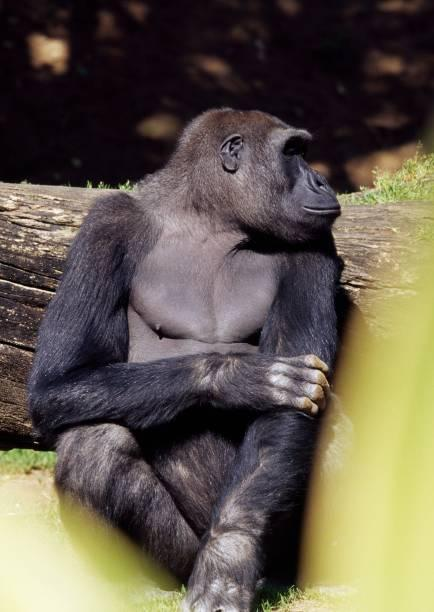gorille_Autres: (8, 86, 406, 612)
